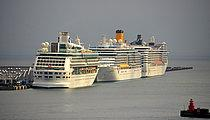Ship: (27, 30, 104, 91), (88, 30, 148, 86)
